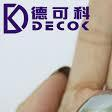ironball: (66, 87, 111, 111)
